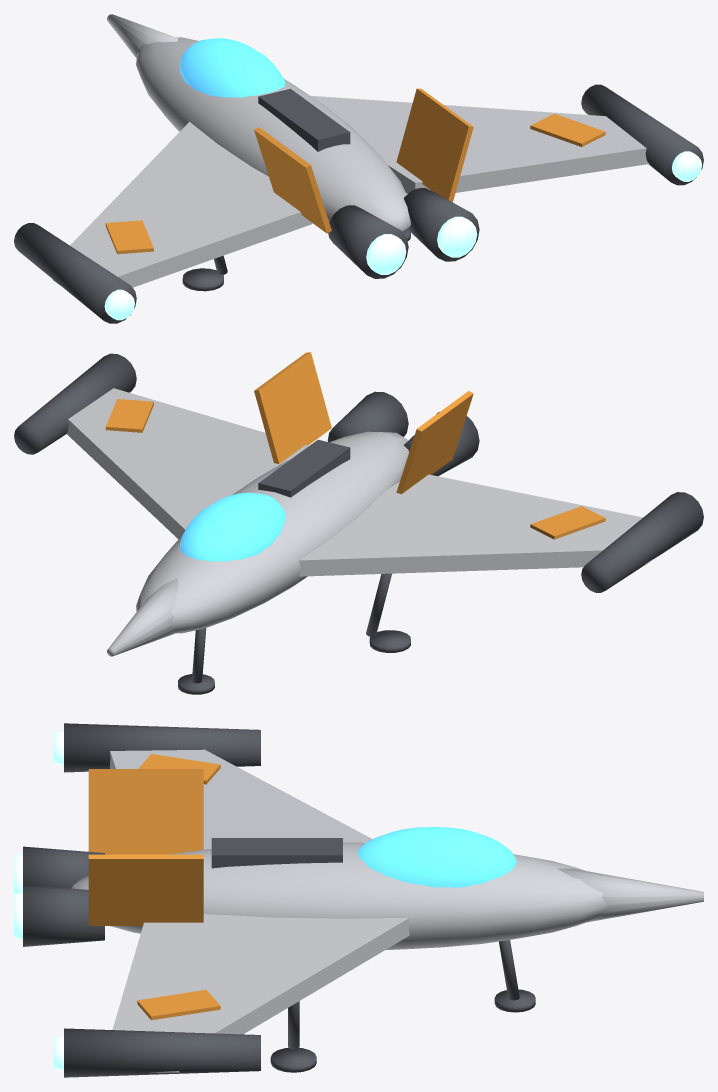
The model's file is ship.glb.
The picture shows the model from 3 angles, top to bottom: view 1: azimuth 30°, elevation 25°; view 2: azimuth 150°, elevation 25°; view 3: azimuth 270°, elevation 25°; orthographic projection. The views are drawn at different scales.
Visible parts, largest first — view 1: Ship; view 2: Ship; view 3: Ship.
Boxes of the visible parts, x1,y1,x2,y2 form: Ship: (14, 14, 703, 323); Ship: (14, 352, 703, 694); Ship: (14, 723, 703, 1077).
Size of the model in its own units: 9.4 by 2.7 by 8.41.
